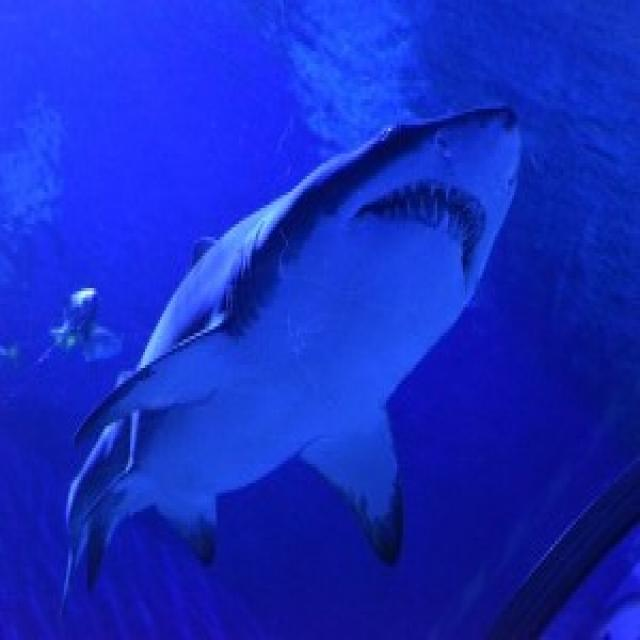Shark: (60, 82, 555, 637), (38, 267, 124, 377)
